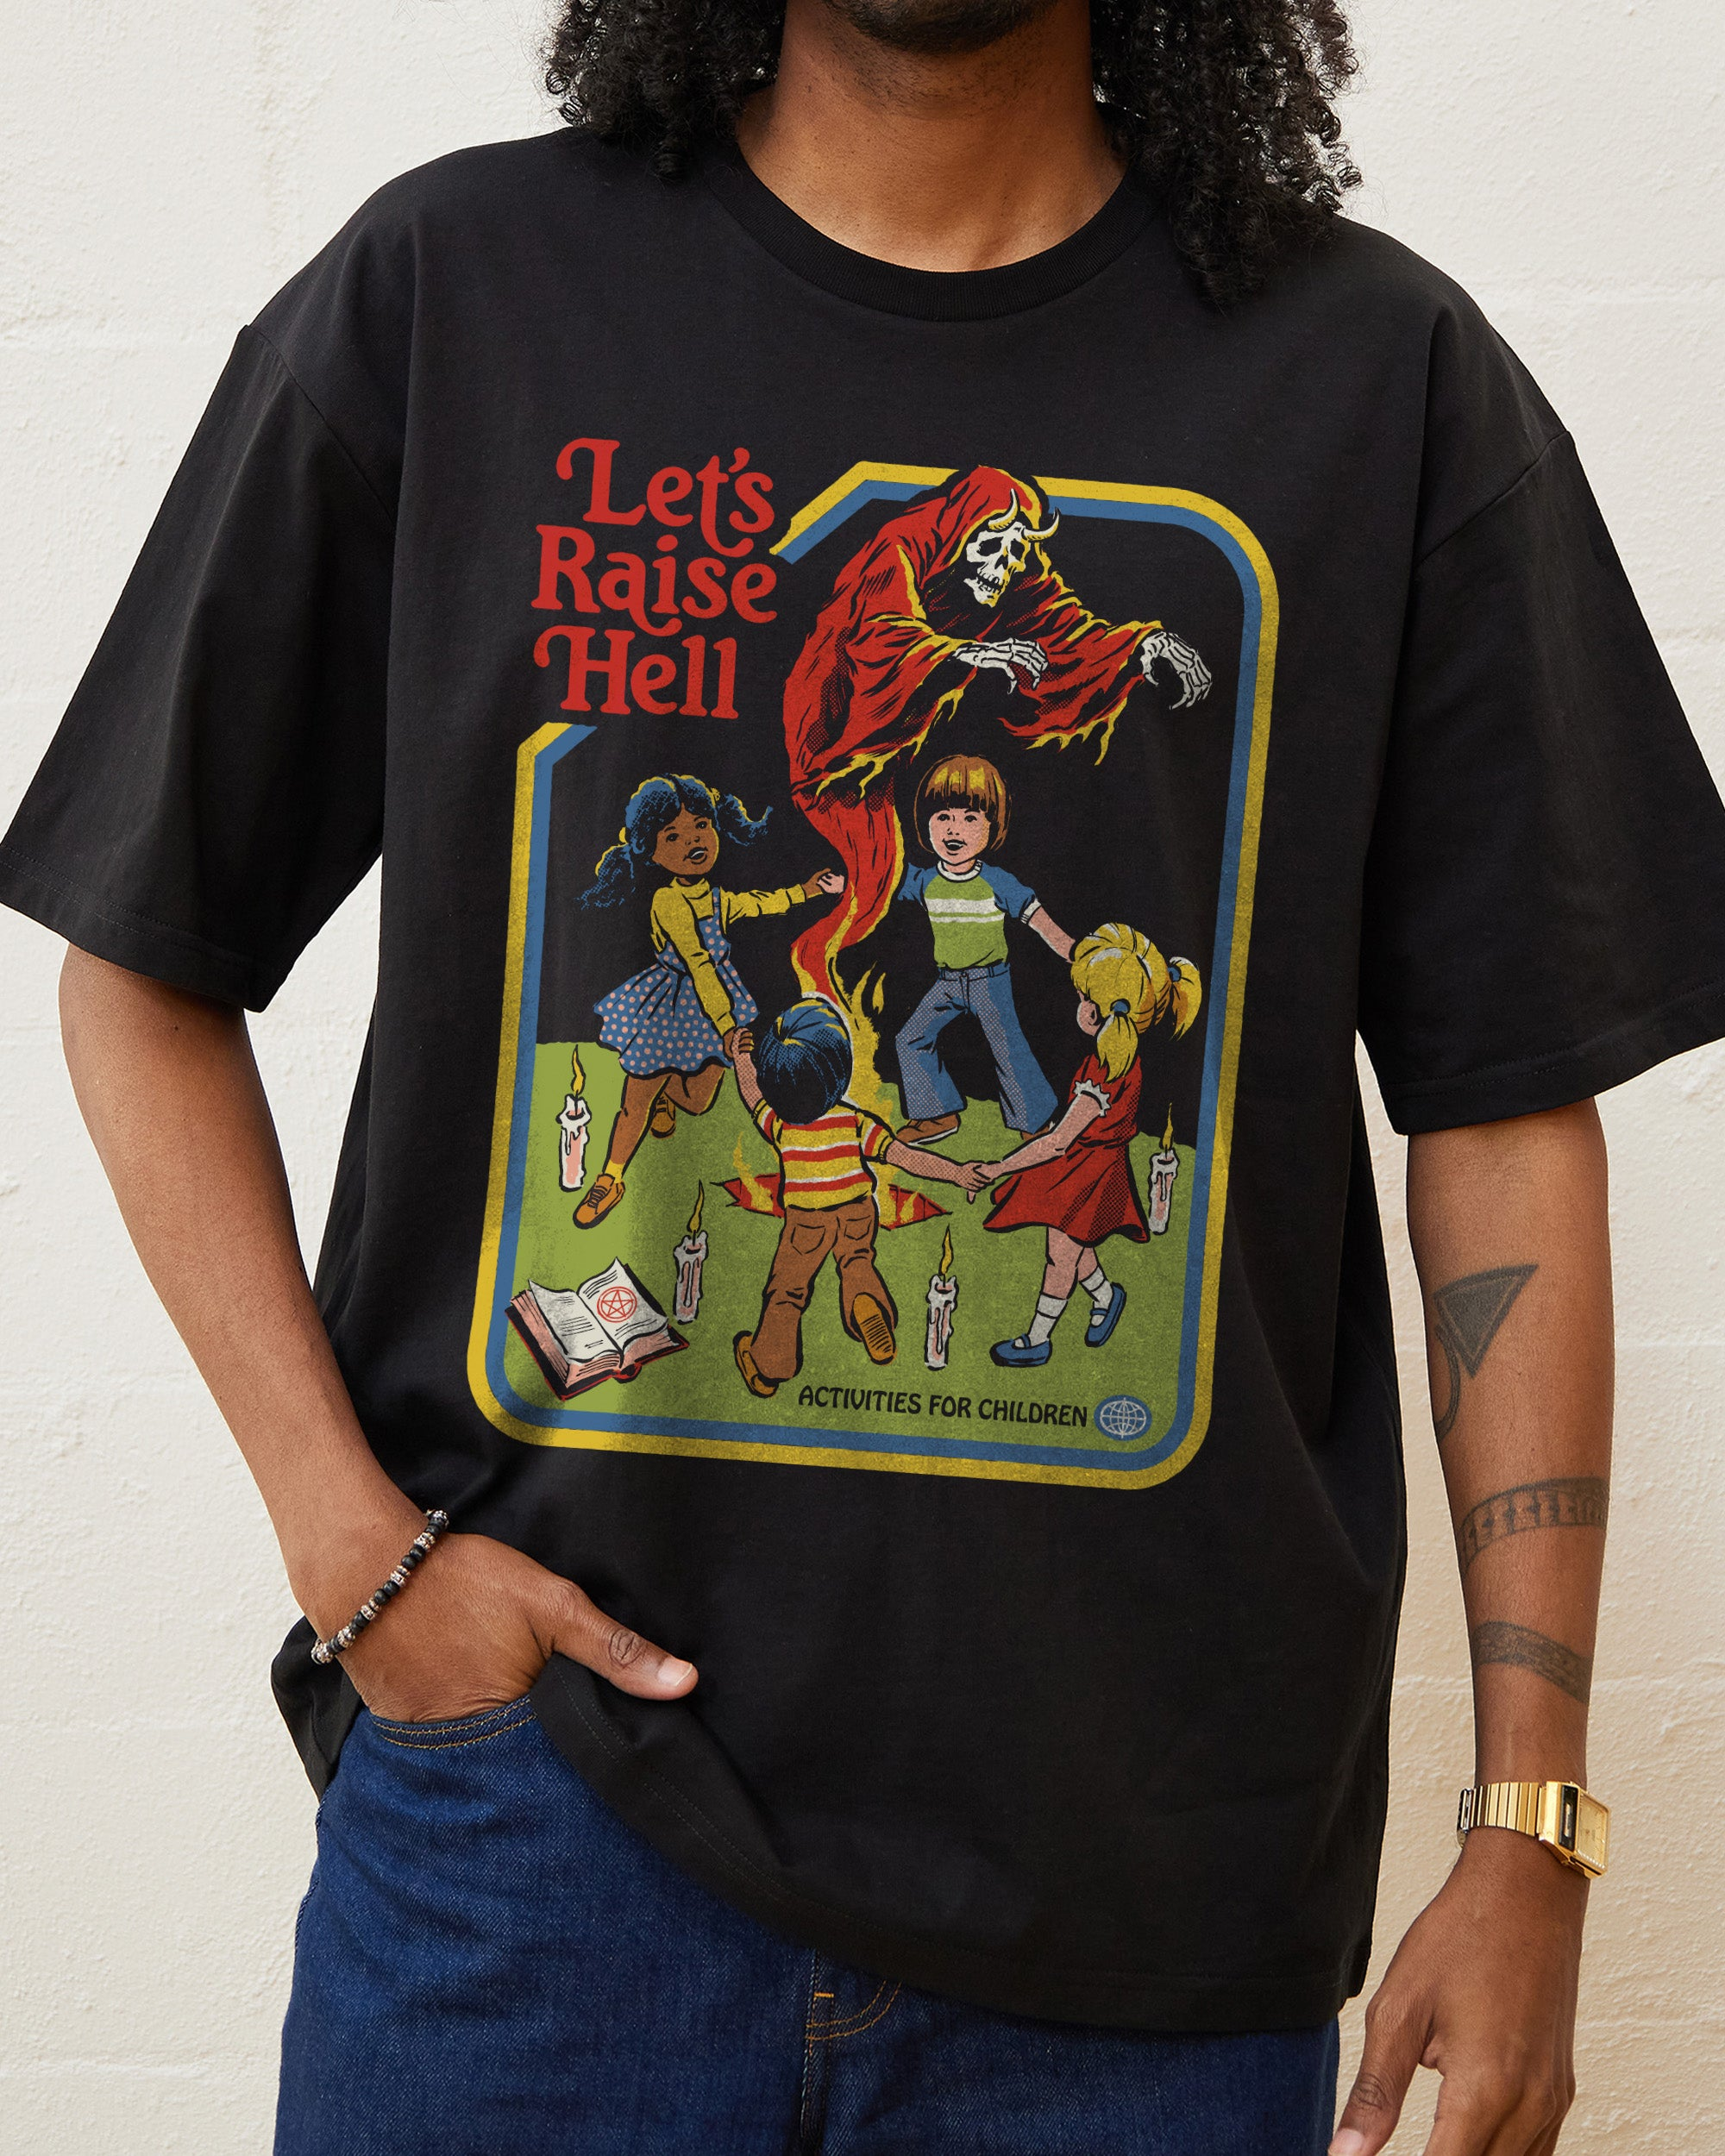design: (456, 424, 1290, 1503)
